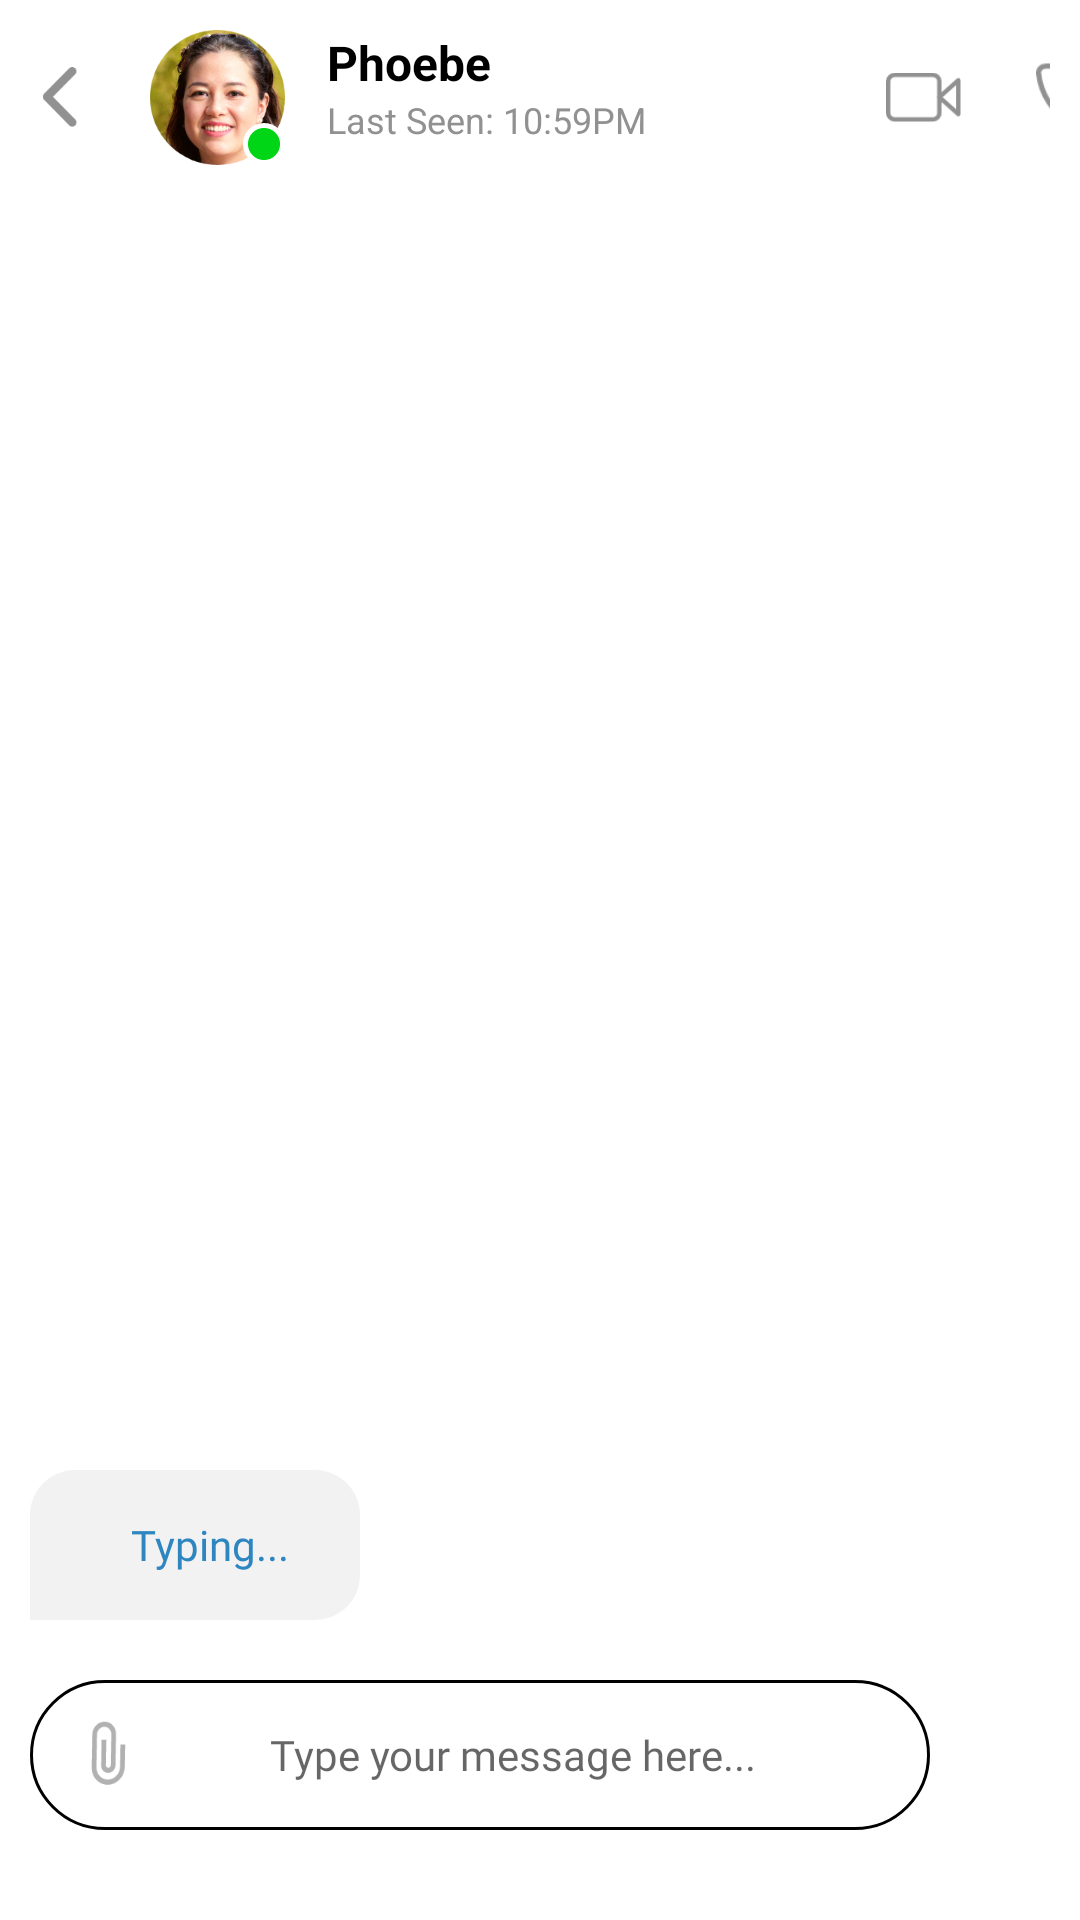

Icons on this 1080*1920 Android screen, each with its box as bbox=(x1, y1, x2, y2):
attachment: bbox=(92, 1722, 125, 1785)
back: bbox=(43, 67, 77, 127)
video: bbox=(886, 73, 961, 122)
